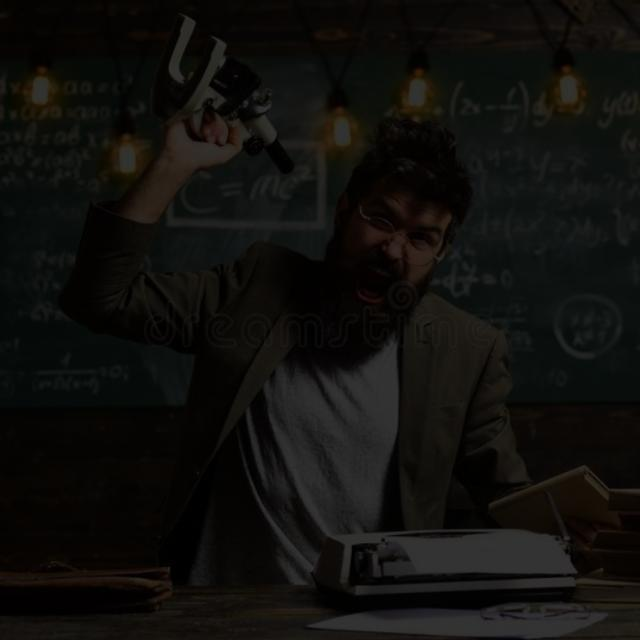Angry: (277, 120, 484, 327)
